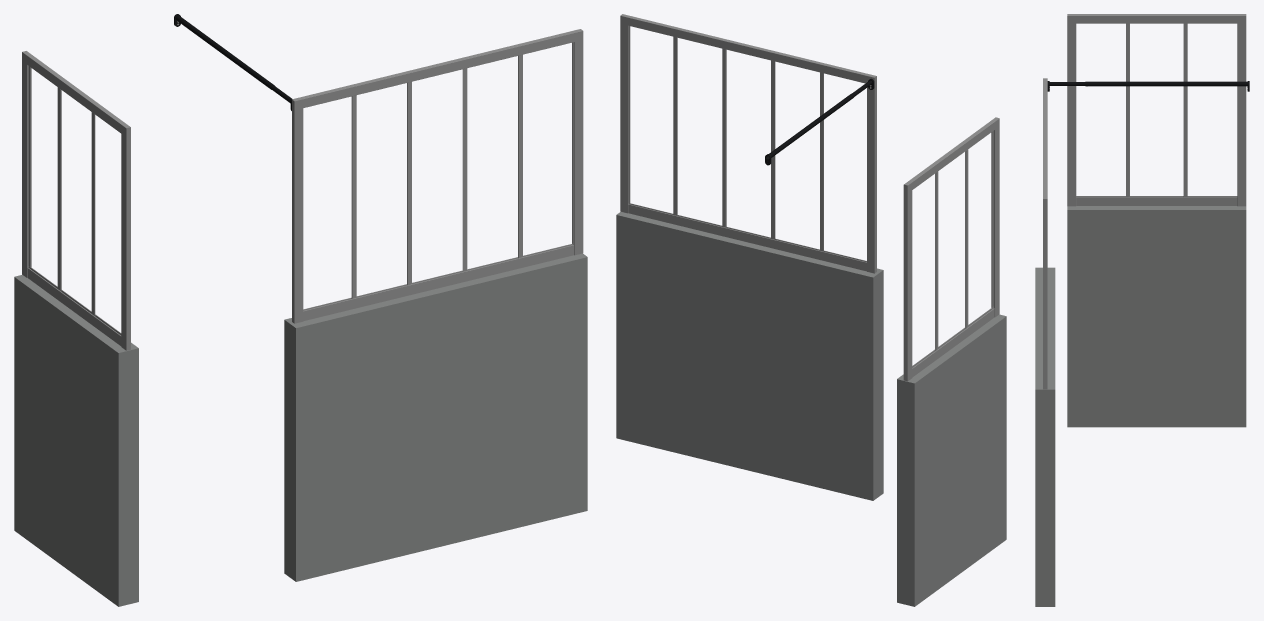
3 views of the same model, side by side, from view 1: azimuth 30°, elevation 25°; view 2: azimuth 150°, elevation 25°; view 3: azimuth 270°, elevation 25° (orthographic). The views are drawn at different scales.
Visible parts, largest first — view 1: painel, painel001, Rectangle178, Rectangle184, Rectangle179, Rectangle189, Rectangle185, Rectangle181, Rectangle183, Rectangle180, Rectangle182; view 2: painel, painel001, Rectangle178, Rectangle184, Rectangle179, Rectangle189, Rectangle185, Rectangle180, Rectangle181, Rectangle182, Rectangle183, Tube002; view 3: painel001, painel, Rectangle184, Rectangle185, Rectangle178, Rectangle189, Tube002.
Boxes of the visible parts, bbox=[...] form: painel: bbox=[284, 253, 587, 581]; painel001: bbox=[14, 274, 138, 606]; Rectangle178: bbox=[292, 29, 583, 323]; Rectangle184: bbox=[22, 51, 130, 350]; Rectangle179: bbox=[303, 244, 573, 321]; Rectangle189: bbox=[57, 87, 95, 315]; Rectangle185: bbox=[27, 266, 121, 345]; Rectangle181: bbox=[462, 68, 467, 271]; Rectangle183: bbox=[351, 95, 356, 298]; Rectangle180: bbox=[518, 54, 522, 258]; Rectangle182: bbox=[407, 82, 411, 285]; painel: bbox=[616, 212, 883, 500]; painel001: bbox=[897, 314, 1006, 606]; Rectangle178: bbox=[620, 14, 876, 273]; Rectangle184: bbox=[903, 117, 999, 381]; Rectangle179: bbox=[628, 203, 866, 271]; Rectangle189: bbox=[935, 149, 968, 350]; Rectangle185: bbox=[912, 307, 994, 377]; Rectangle180: bbox=[673, 36, 677, 215]; Rectangle181: bbox=[722, 48, 726, 227]; Rectangle182: bbox=[771, 60, 775, 239]; Rectangle183: bbox=[820, 72, 823, 251]; Tube002: bbox=[765, 93, 854, 159]; painel001: bbox=[1067, 206, 1246, 427]; painel: bbox=[1035, 267, 1055, 606]; Rectangle184: bbox=[1067, 14, 1246, 206]; Rectangle185: bbox=[1076, 196, 1237, 205]; Rectangle178: bbox=[1043, 78, 1047, 389]; Rectangle189: bbox=[1126, 23, 1187, 197]; Tube002: bbox=[1085, 81, 1247, 86].
Bounding box in the file's own units: 2147 × 2172 × 1035.
3 materials, 2 textured.
